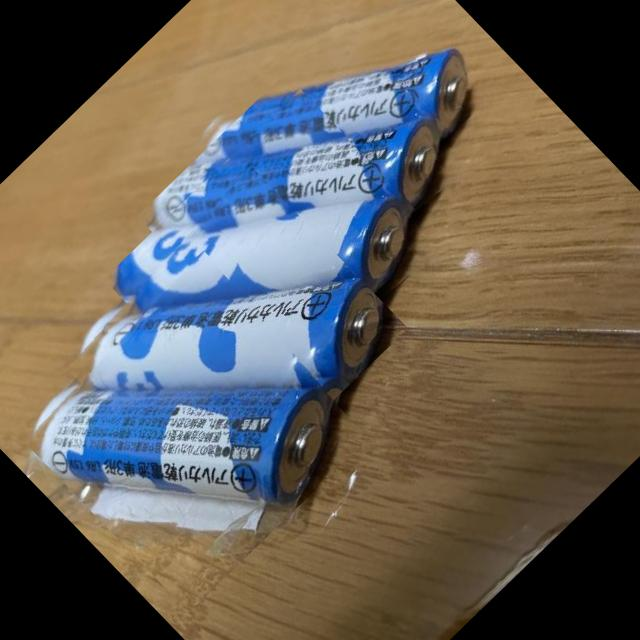Hazard: (14, 251, 377, 613), (54, 166, 408, 519), (103, 89, 447, 432), (136, 18, 478, 356), (175, 0, 499, 278)
